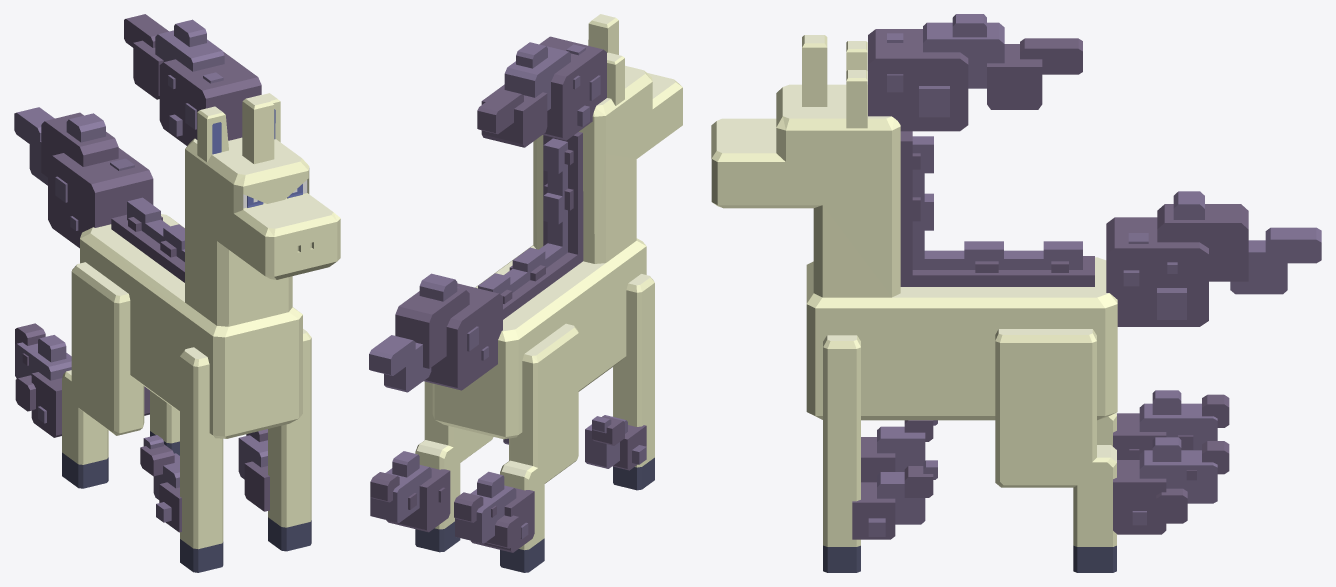
The model's file is model_shiny.obj.
3 renders of one model, left to right at view 1: azimuth 30°, elevation 25°; view 2: azimuth 150°, elevation 25°; view 3: azimuth 270°, elevation 25°, orthographic. The views are drawn at different scales.
Parts seen in each view (by area): view 1: 0078_rapidash_shiny; view 2: 0078_rapidash_shiny; view 3: 0078_rapidash_shiny.
Boxes of the visible parts, x1,y1,x2,y2 form: 0078_rapidash_shiny: [14, 14, 340, 572]; 0078_rapidash_shiny: [369, 14, 682, 572]; 0078_rapidash_shiny: [711, 14, 1321, 572].
Bounding box in the file's own units: 1.15 × 3.72 × 3.92.
1 material, 1 textured.
